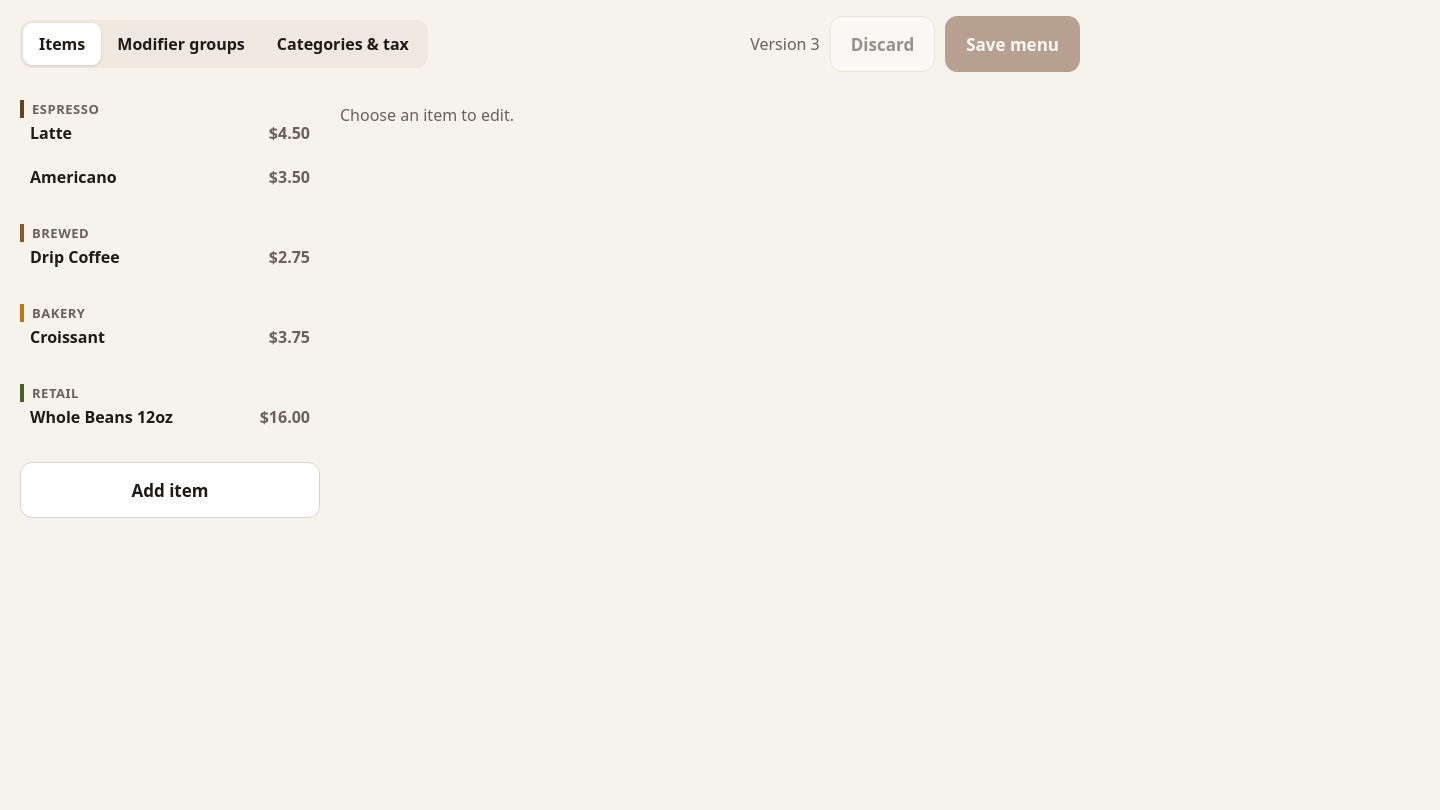
menu editor › shows the server's problems, and a conflict, without losing edits
Click the button "Latte $4.50".
click(51, 133)  # box [20, 122, 320, 166]
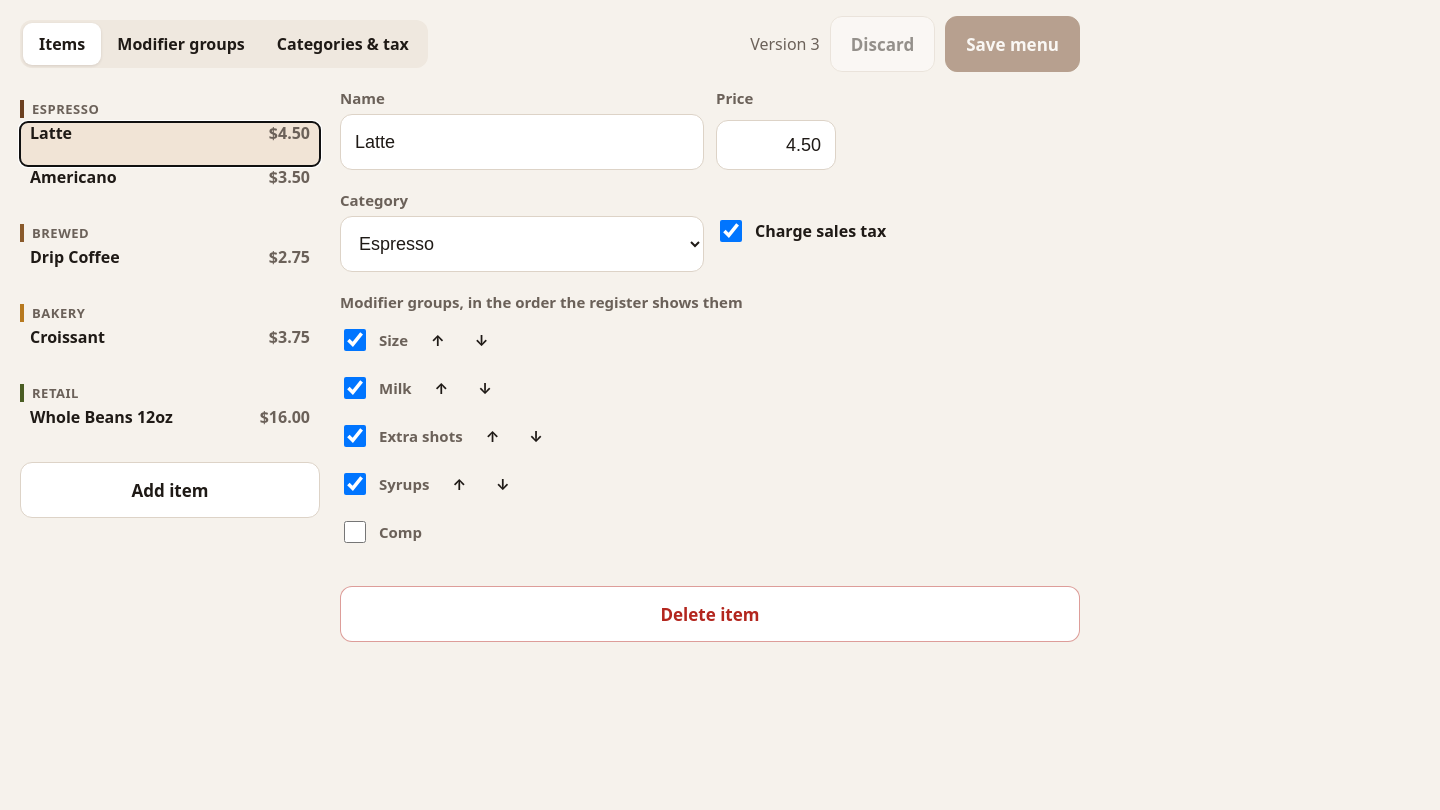
Clear the field labelled "Name" at (522, 142), box [340, 114, 704, 170]
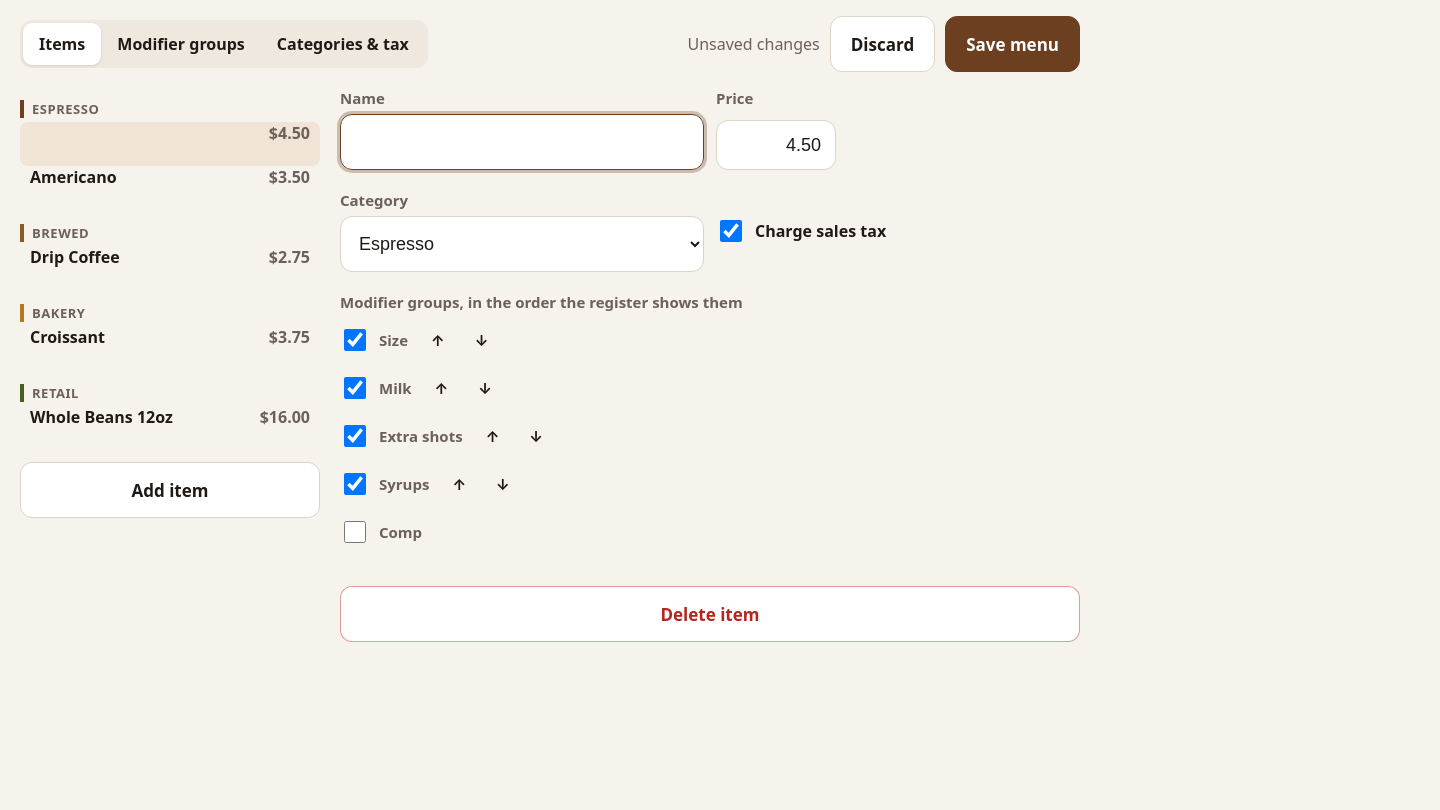
Click the button "Save menu".
click(1013, 44)  # box [945, 16, 1080, 72]
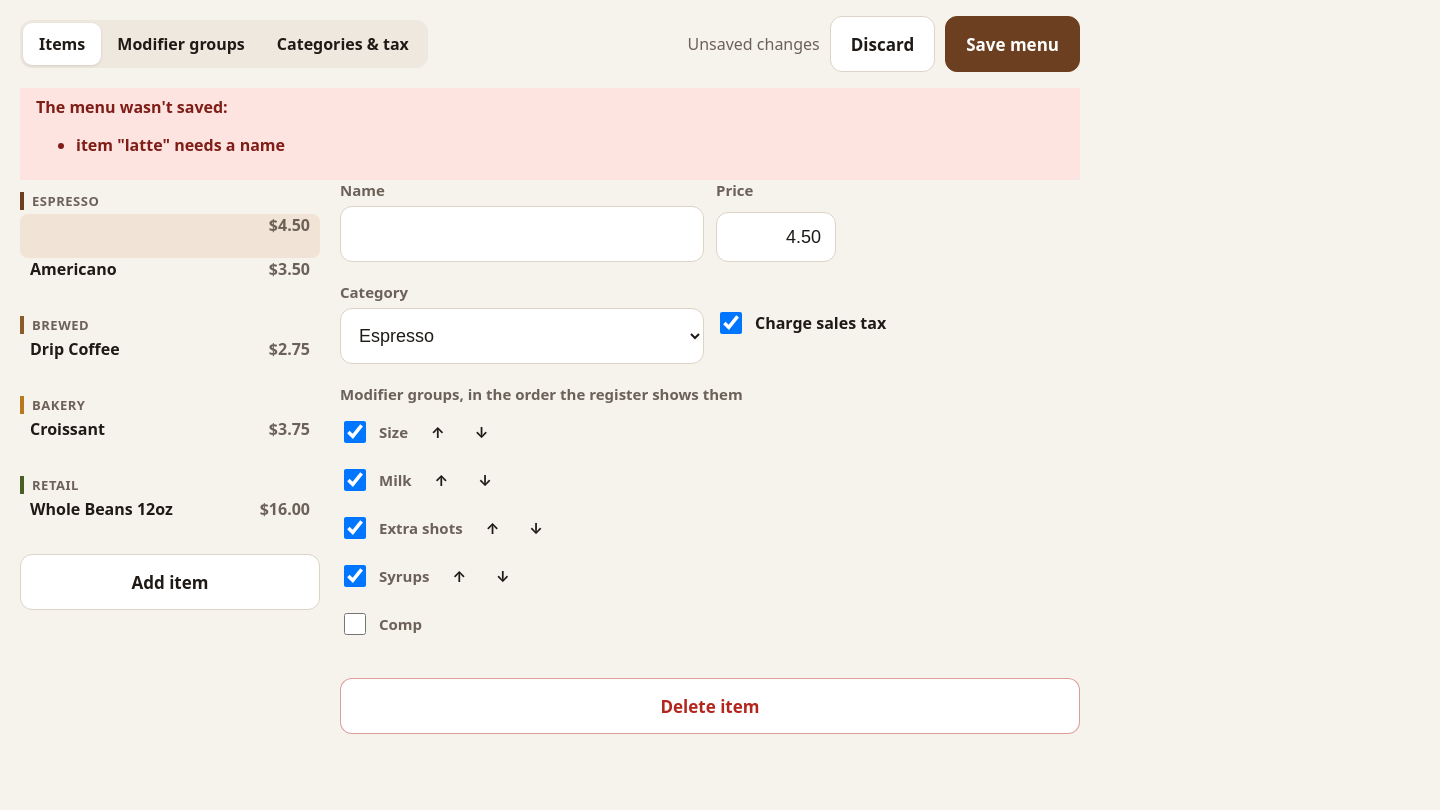
Expected: the message shows "item \"latte\" needs a name", [76, 134, 285, 156]
Type "Latte" into the field labelled "Name".
click(522, 234); type("Latte")  # box [340, 206, 704, 262]
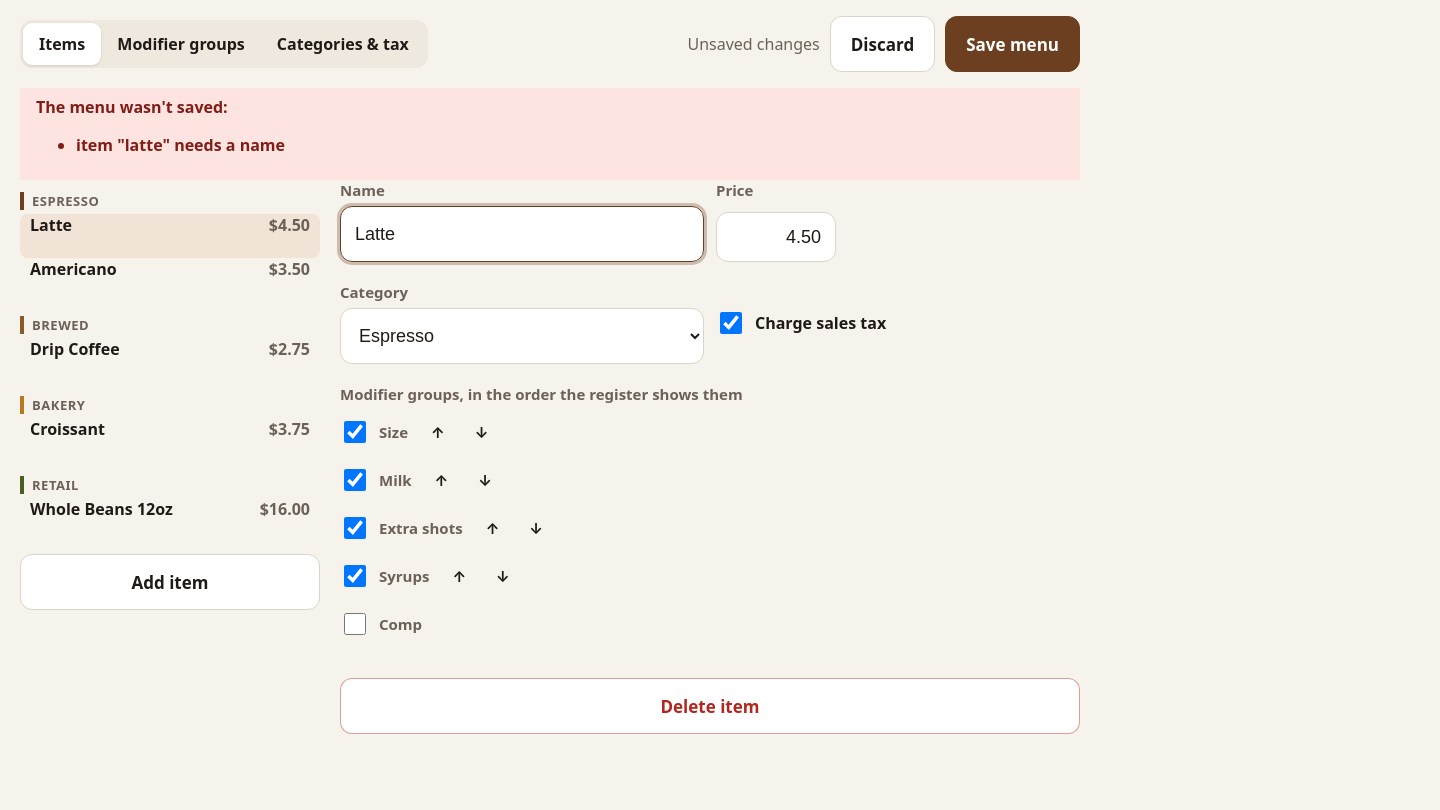
Click the button "Save menu".
click(1013, 44)  # box [945, 16, 1080, 72]
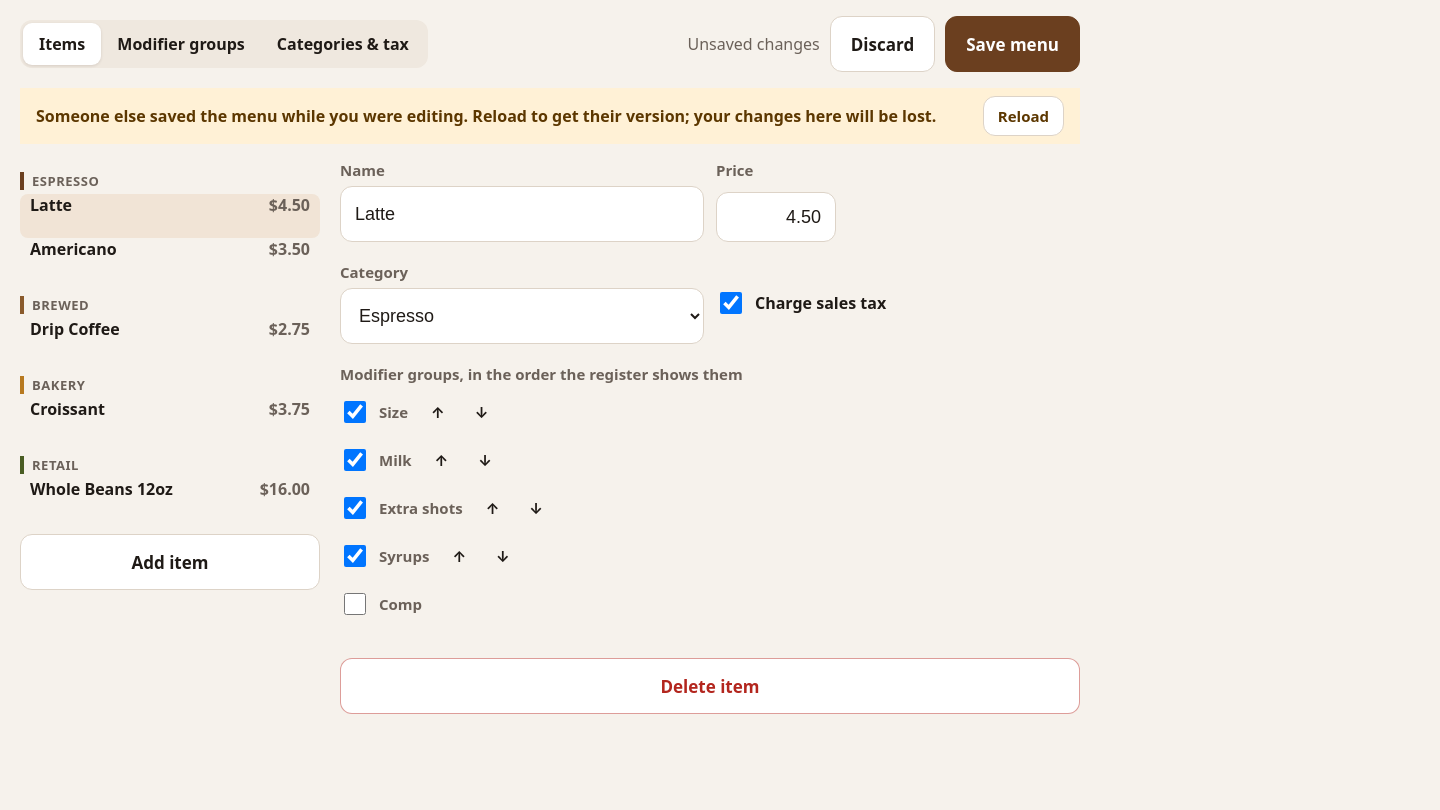
Expected: the text "Unsaved changes" is shown, [687, 33, 820, 55]
Expected: the text "Someone else saved the menu" is shown, [36, 105, 936, 127]
